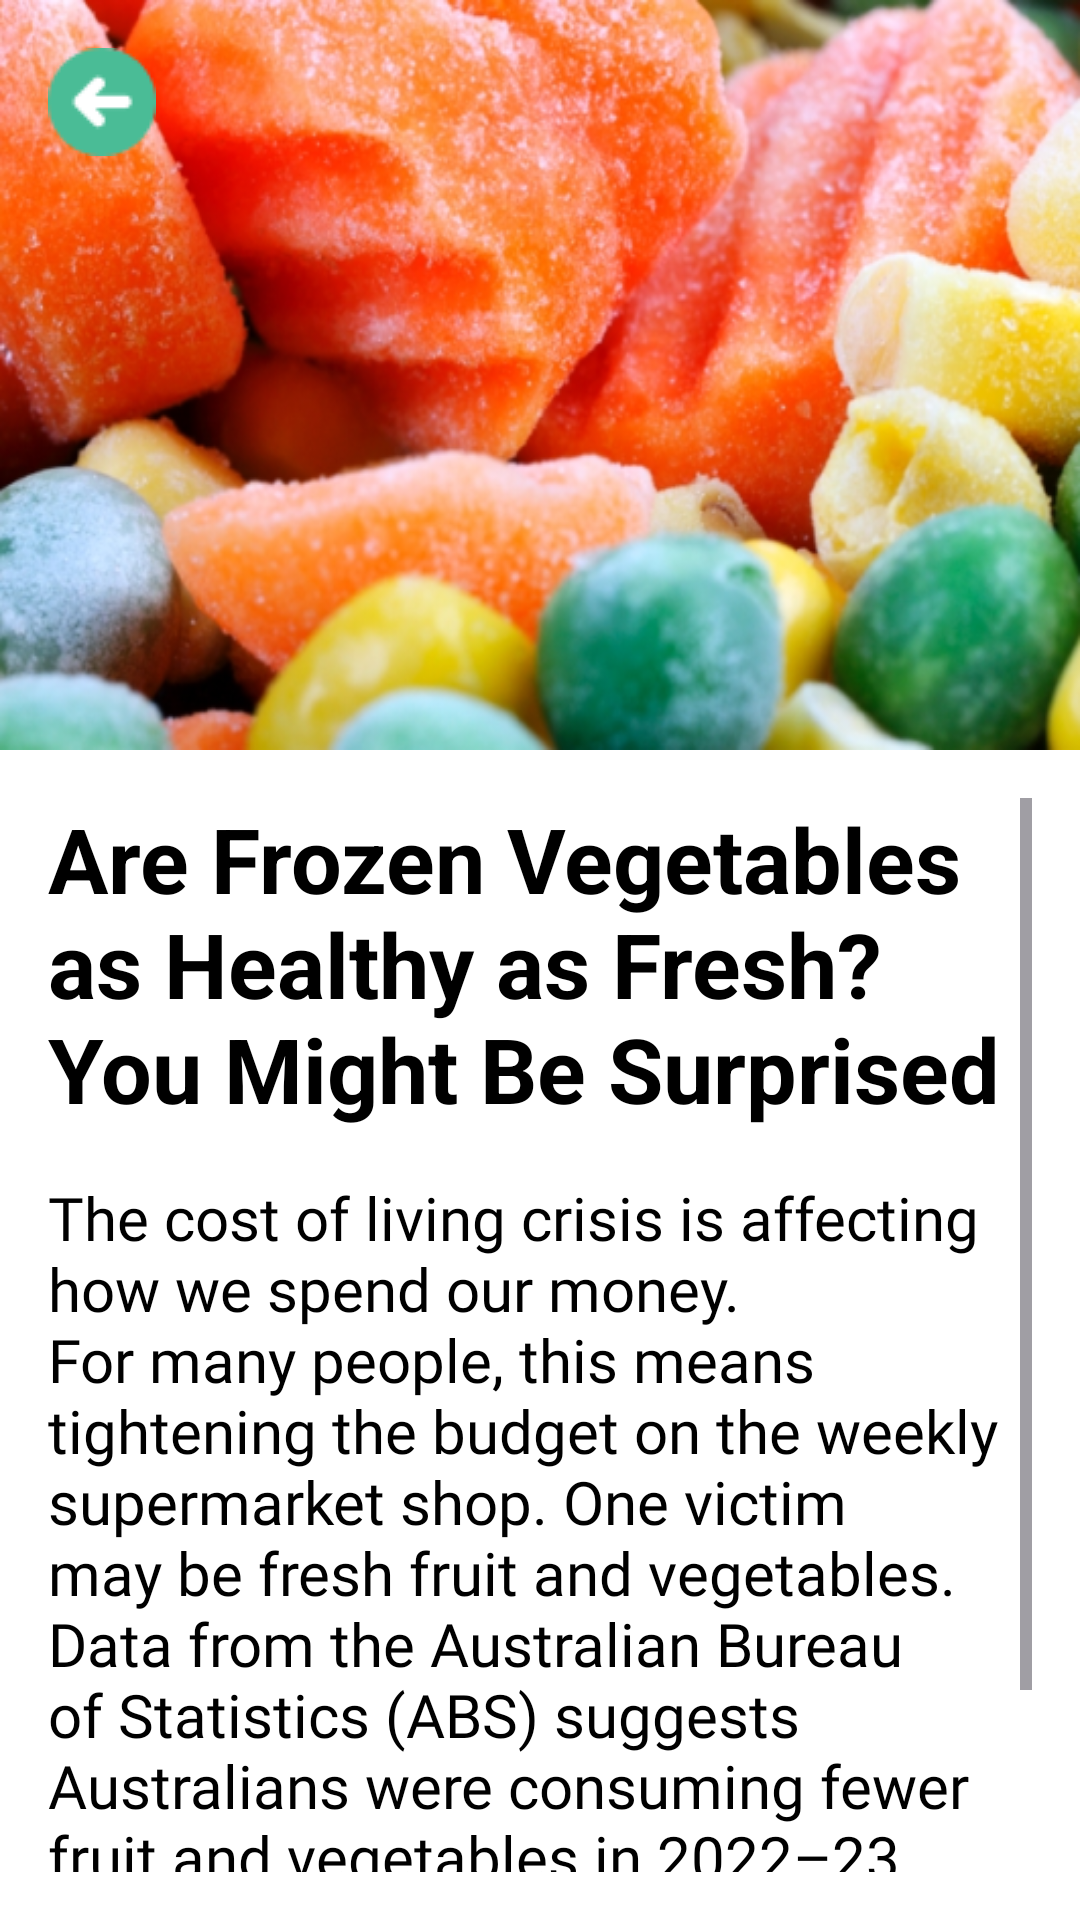

Point at icon controls on the screen. Image size 1080px x 1920px, points as (x=x, y=y).
iconback: (x=102, y=102)
